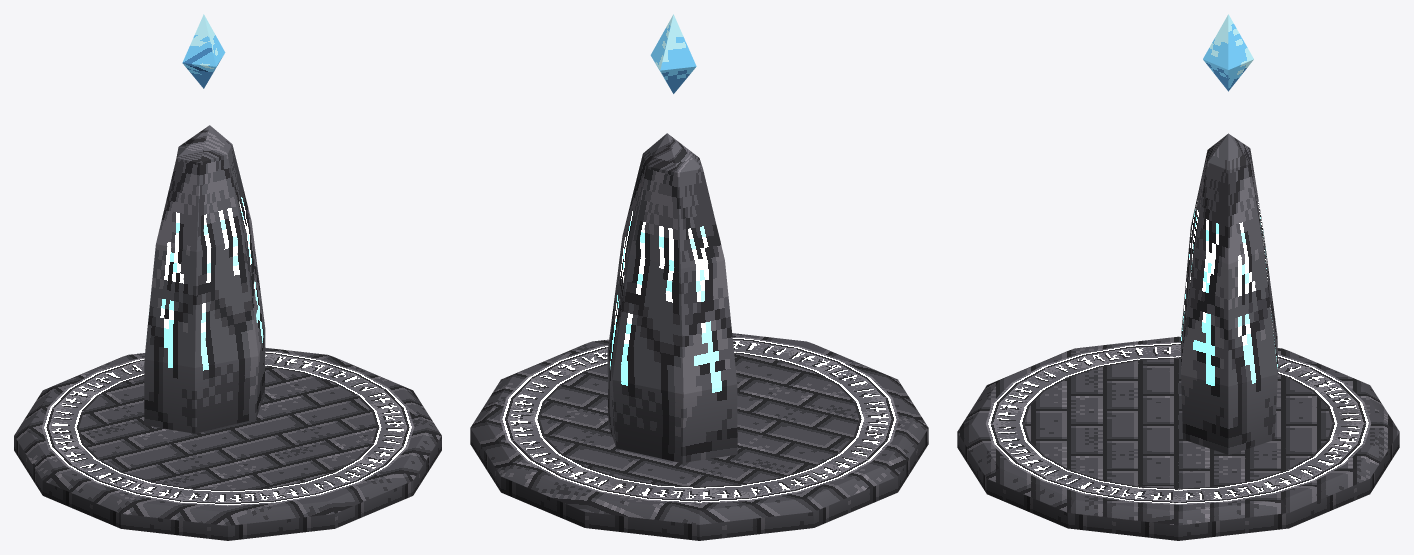
File: waypoint_stone.glb
3 views of the same model, side by side, from view 1: azimuth 30°, elevation 25°; view 2: azimuth 150°, elevation 25°; view 3: azimuth 270°, elevation 25° (orthographic). The views are drawn at different scales.
Visible parts, largest first — view 1: waypoint_stone, teleport_ring, waypoint_crystal; view 2: waypoint_stone, teleport_ring, waypoint_crystal; view 3: waypoint_stone, teleport_ring, waypoint_crystal.
Part boxes in pixels (<box>): waypoint_stone: <box>14,125,441,540</box>; teleport_ring: <box>41,351,414,506</box>; waypoint_crystal: <box>182,14,225,88</box>; waypoint_stone: <box>470,133,928,540</box>; teleport_ring: <box>500,336,898,503</box>; waypoint_crystal: <box>650,14,696,93</box>; waypoint_stone: <box>957,133,1399,540</box>; teleport_ring: <box>986,342,1370,504</box>; waypoint_crystal: <box>1203,14,1253,91</box>.
Size of the model in its own units: 3.1 by 3.35 by 3.1.
4 materials, 4 textured.
